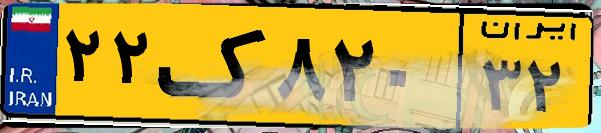0: (385, 28, 445, 110)
2: (330, 28, 385, 110), (57, 26, 110, 100), (525, 38, 570, 115), (110, 28, 158, 98)
3: (475, 38, 525, 113)
8: (270, 28, 330, 110)
ک: (158, 12, 270, 120)
